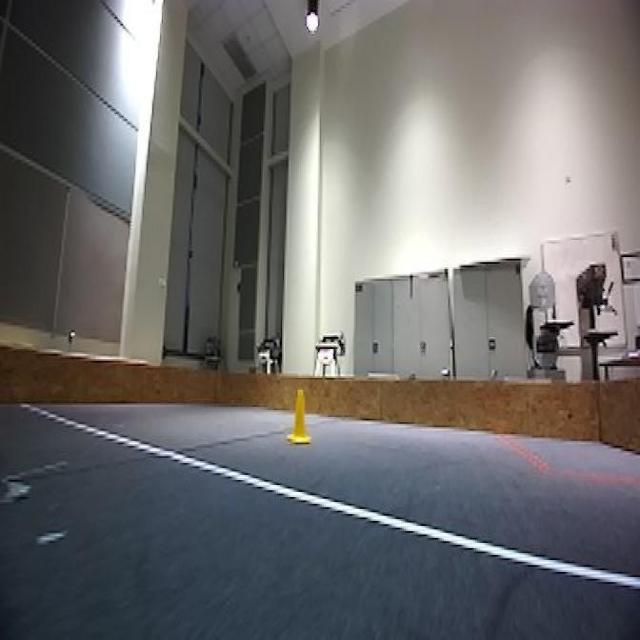frc_cone: (288, 386, 312, 444)
